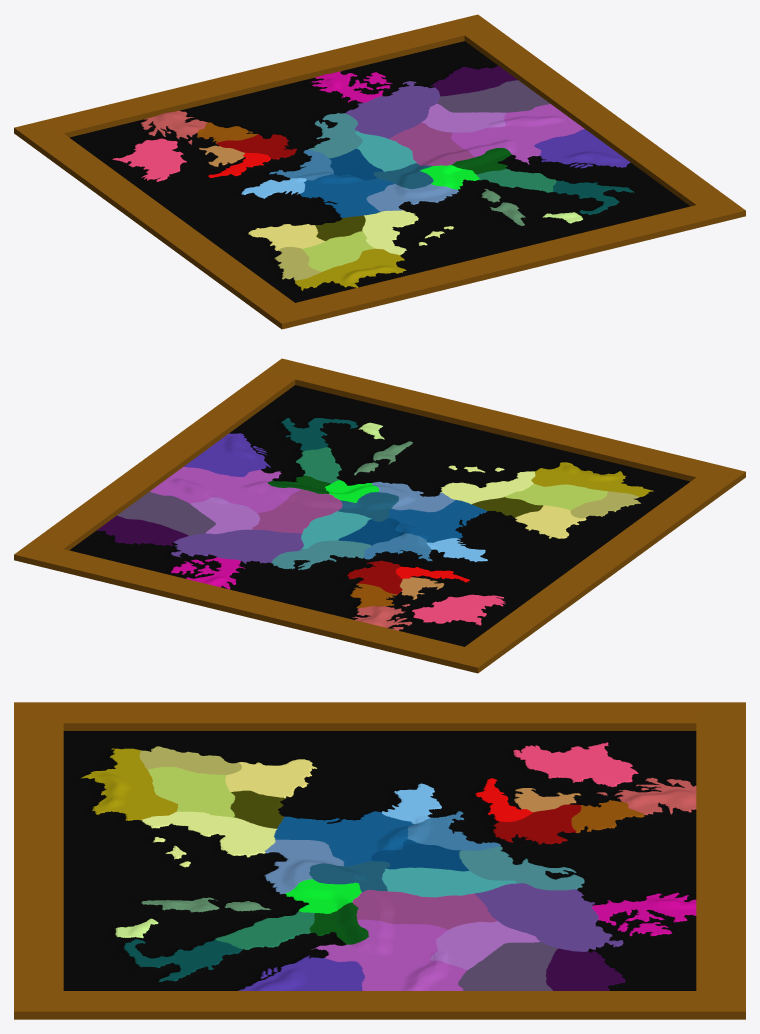
Rendered from board2.glb.
3 views of the same model, one above another, from view 1: azimuth 30°, elevation 25°; view 2: azimuth 150°, elevation 25°; view 3: azimuth 270°, elevation 25° (orthographic). The views are drawn at different scales.
Visible parts, largest first — view 1: Height, Frame; view 2: Height, Frame; view 3: Height, Frame.
Boxes of the visible parts, x1,y1,x2,y2 form: Height: [69, 41, 690, 302]; Frame: [14, 14, 745, 329]; Height: [69, 385, 690, 646]; Frame: [14, 358, 745, 673]; Height: [63, 731, 696, 990]; Frame: [14, 702, 745, 1019].
Bounding box in the file's own units: 34 × 0.5331 × 34.
Materials: 2 (1 with a texture image).
